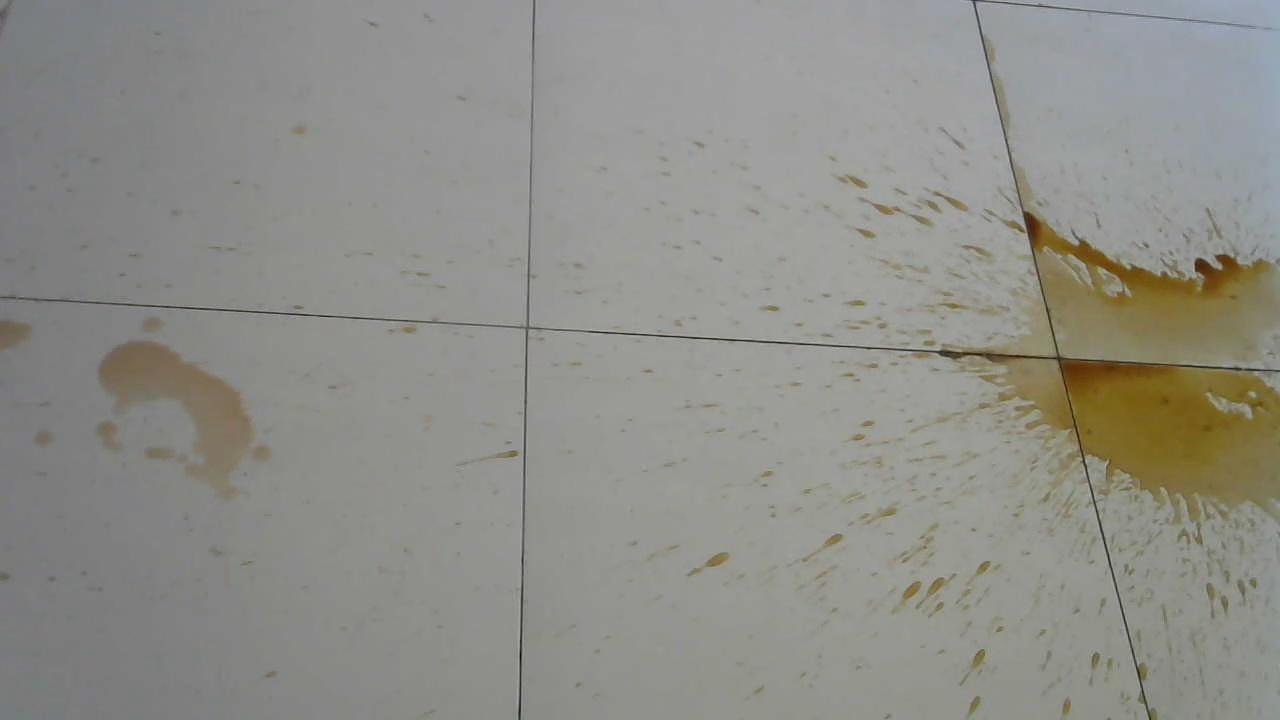dirty_floor: (779, 32, 1276, 712), (9, 305, 285, 509)
